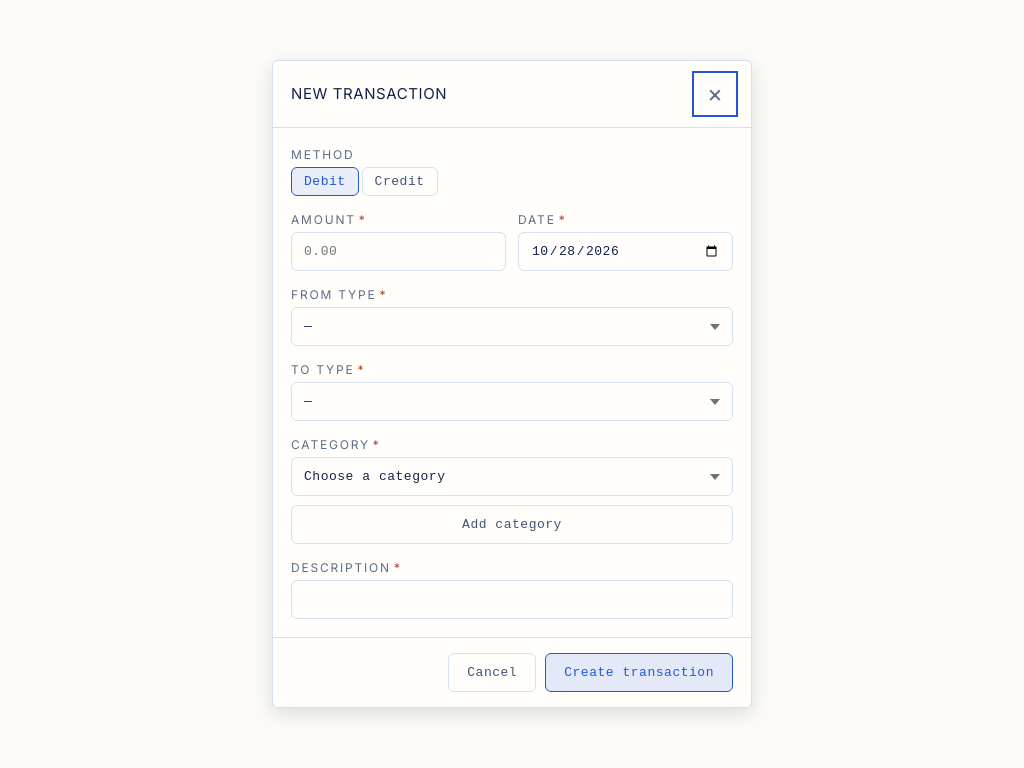
Test: TransactionForm › should show only a category selector and add button until another category is added
expect the dropdown named "Category" is shown: met, box [291,457,733,496]
expect the field labelled "Category amount" is not shown: met
In the field named "Amount": point(398, 252) [291,232,506,271], type "100"
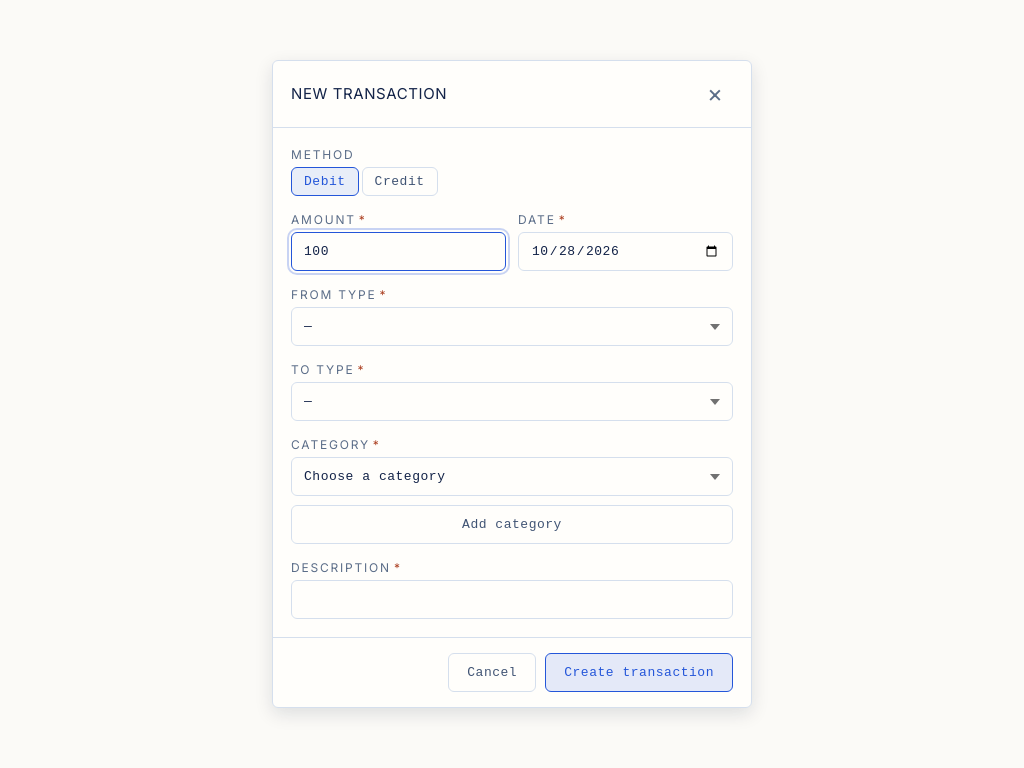
Click the button "Add category": point(512, 524) [291,505,733,544]
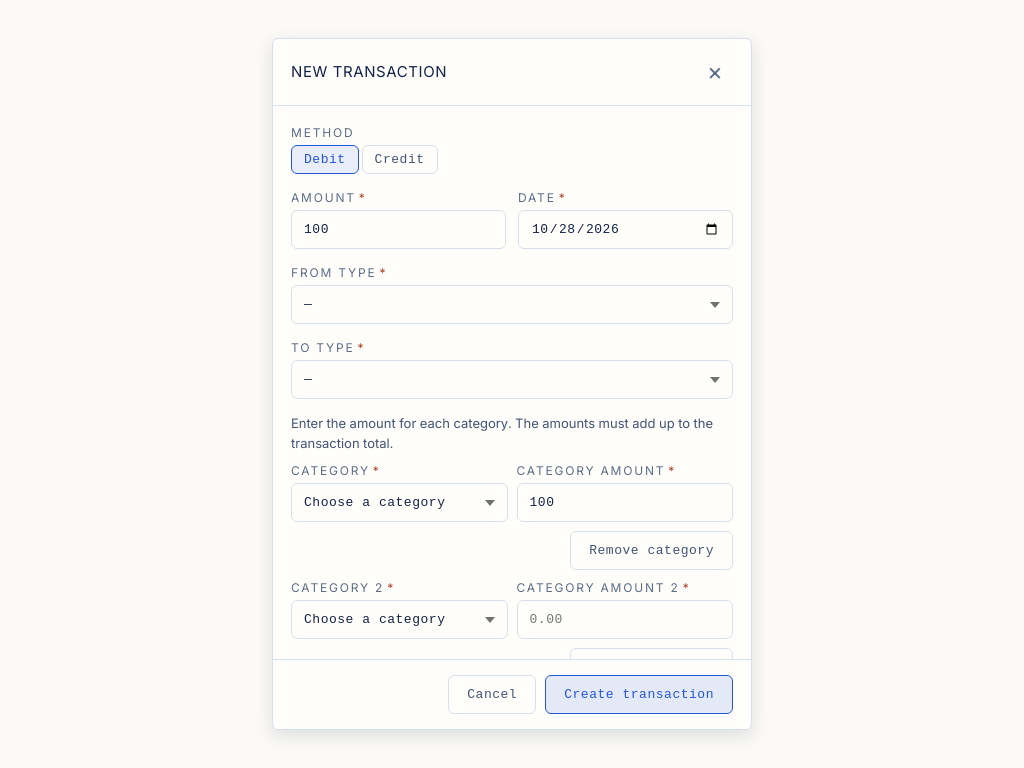
expect the field named "Category amount" holds "100": met, box [516,483,733,522]
expect the field named "Category amount 2" is empty: met, box [516,600,733,639]
expect the button "Remove category" is shown: met, box [570,531,733,570]
